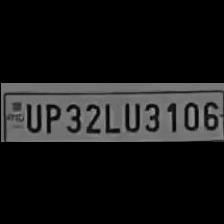0: (179, 97, 199, 130)
1: (162, 98, 178, 132)
2: (81, 99, 101, 133)
3: (61, 99, 81, 133), (141, 98, 161, 132)
6: (199, 97, 219, 131)
L: (101, 97, 119, 132)
P: (42, 99, 60, 133)
U: (22, 98, 41, 132), (119, 98, 138, 132)
